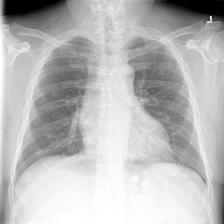normal: (12, 24, 210, 191)
